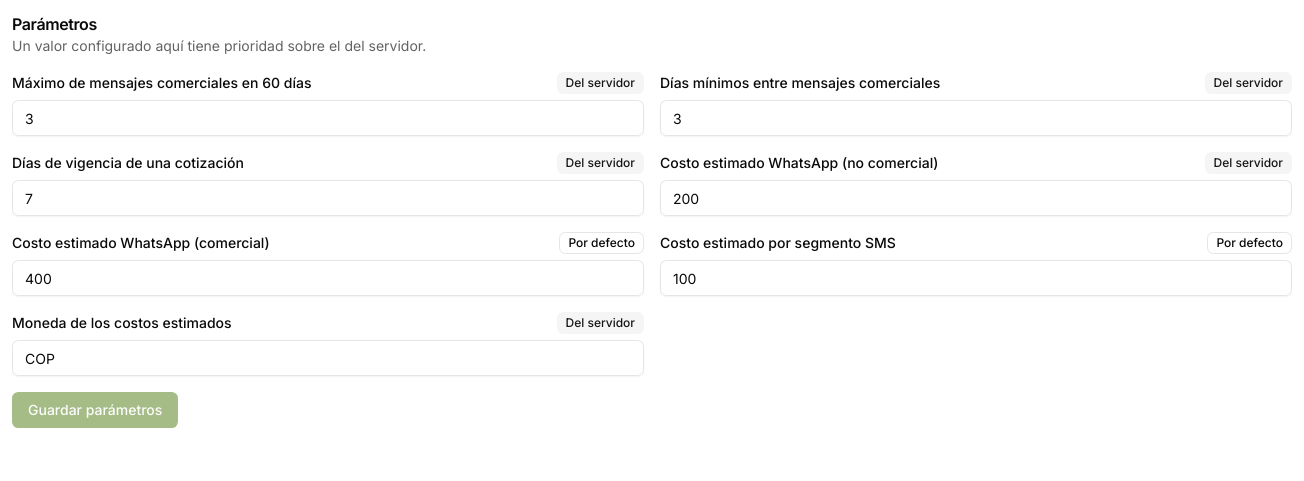
Test case: ParametrosSection › muestra el error del servidor
Replace the text in the field labelled "Días de vigencia de una cotización" with "9999": (328, 198) top-left (12, 180), bottom-right (644, 216)
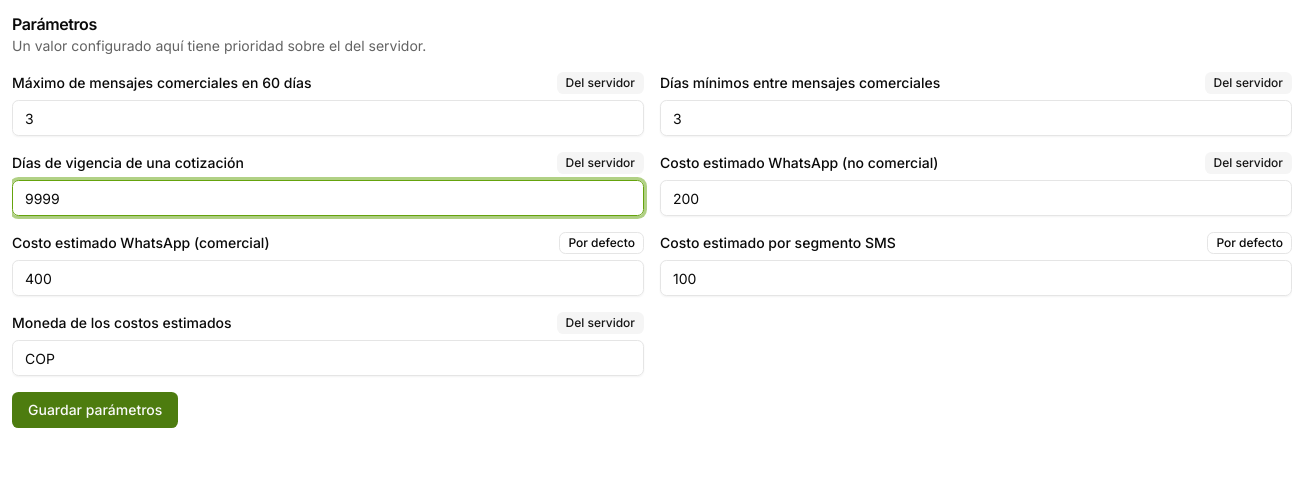
Click the button "Guardar parámetros": (95, 410) top-left (12, 392), bottom-right (178, 428)
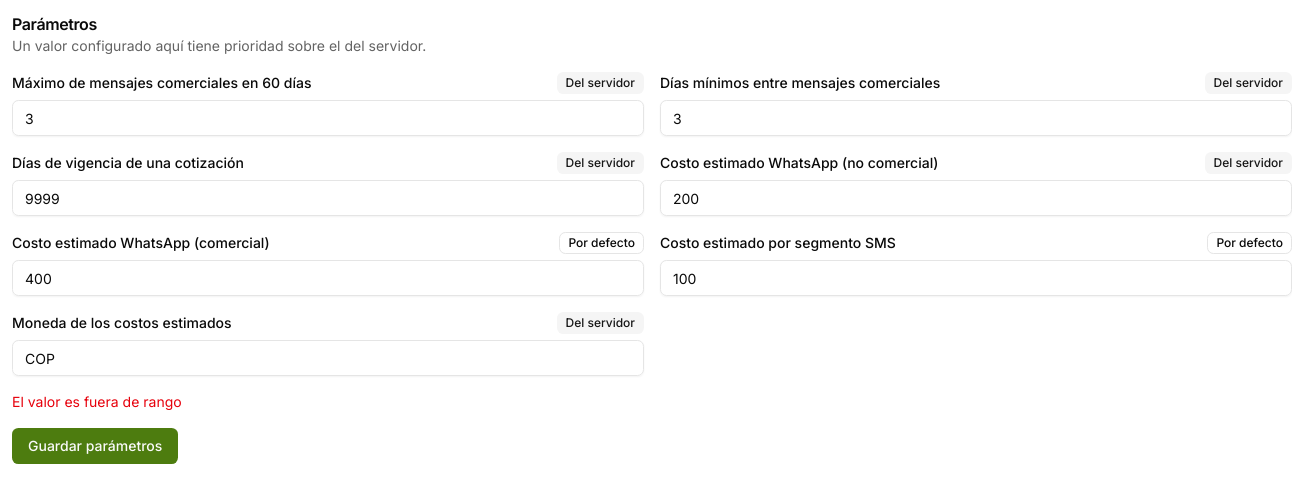
Now the message reads "El valor es fuera de rango", box top-left (12, 393), bottom-right (182, 410)
